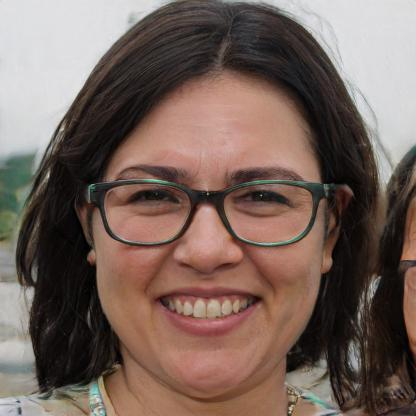glasses: (87, 175, 331, 252)
